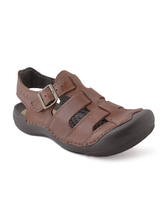shoes: (8, 66, 157, 159)
